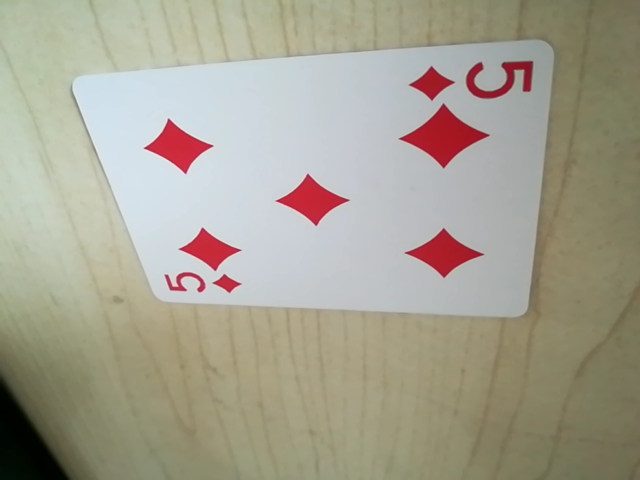fk 5: (407, 52, 537, 106), (159, 264, 244, 302)
